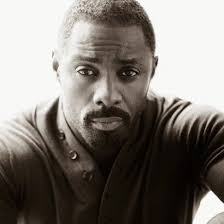black_male: (45, 1, 167, 142)
